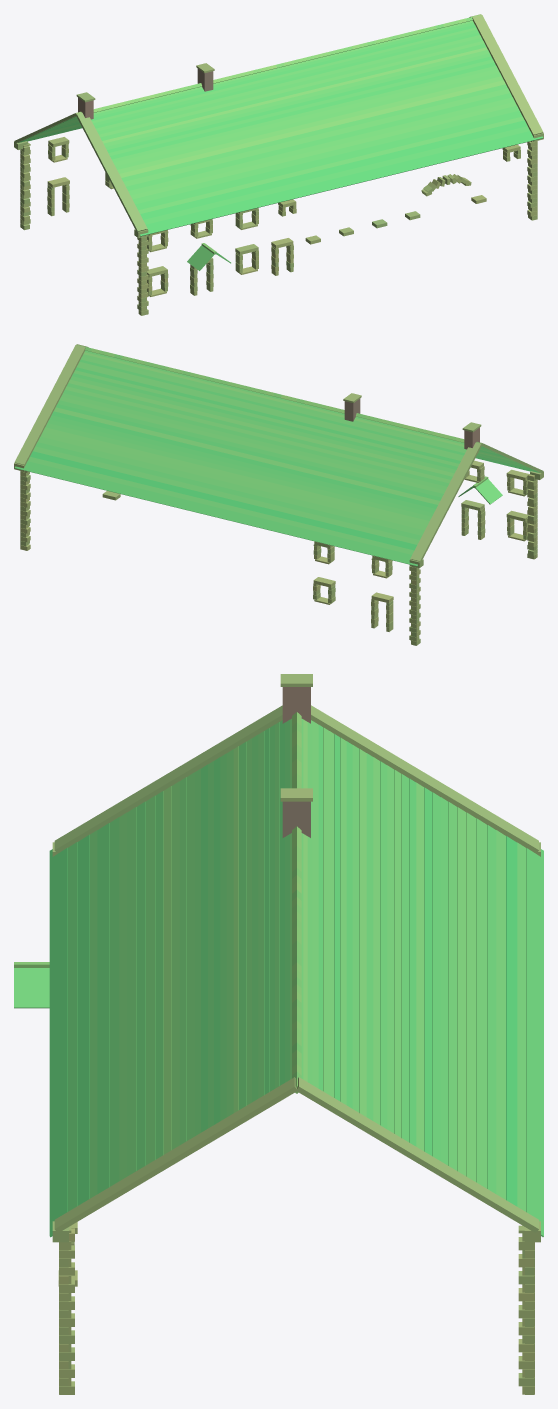
The model's file is SM_Bld_035_Stone.glb.
3 views of the same model, one above another, from view 1: azimuth 30°, elevation 25°; view 2: azimuth 150°, elevation 25°; view 3: azimuth 270°, elevation 25° (orthographic). The views are drawn at different scales.
Parts seen in each view (by area): view 1: SM_Bld_035_Stone; view 2: SM_Bld_035_Stone; view 3: SM_Bld_035_Stone.
Boxes of the visible parts, box(x1,y1,x2,y2) form: SM_Bld_035_Stone: box(14, 14, 543, 315); SM_Bld_035_Stone: box(14, 344, 543, 645); SM_Bld_035_Stone: box(14, 674, 543, 1394).
Bounding box in the file's own units: 29.38 × 12.04 × 16.94.
